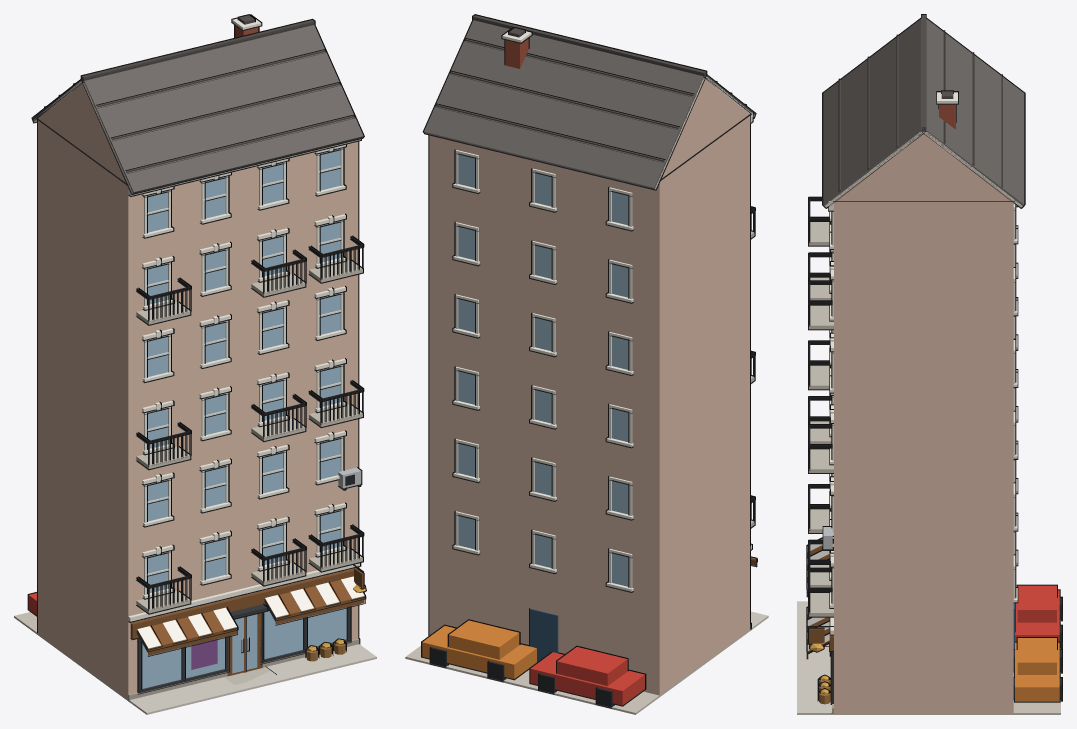
Rendered from Blok_duz_7k_3.fbx.
The picture shows the model from 3 angles, left to right: view 1: azimuth 30°, elevation 25°; view 2: azimuth 150°, elevation 25°; view 3: azimuth 270°, elevation 25°; orthographic projection.
Visible parts, largest first — view 1: Blok_duz_7k_3; view 2: Blok_duz_7k_3; view 3: Blok_duz_7k_3.
Part boxes in pixels (x1,y1,x2,y2): Blok_duz_7k_3: (14,14,376,714); Blok_duz_7k_3: (405,14,768,714); Blok_duz_7k_3: (797,14,1062,714).
Size of the model in its own units: 10.14 by 24.96 by 10.07.
